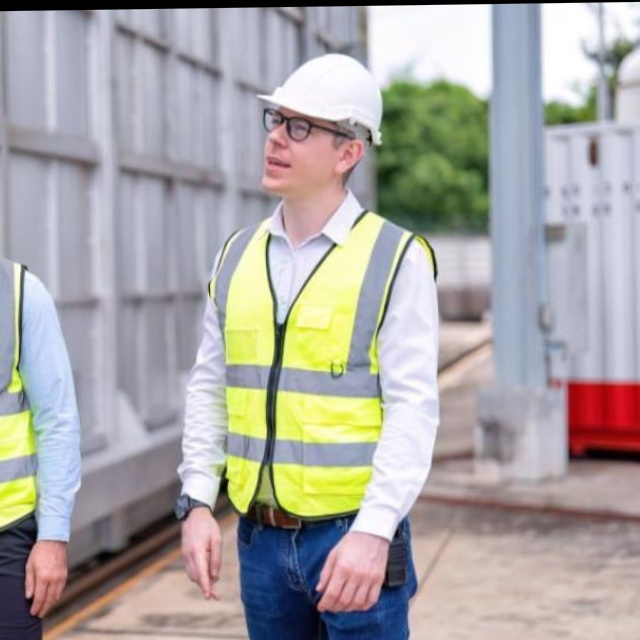Con_Casco: (251, 52, 388, 204)
Con_Chaleco: (205, 215, 445, 522)
